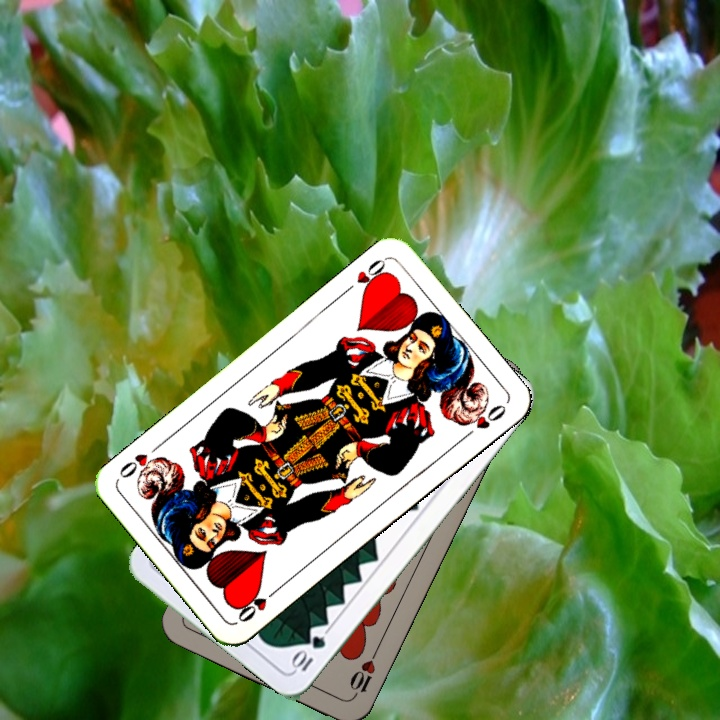G10: (288, 631, 329, 674)
H10: (345, 645, 381, 701)
HO: (339, 254, 392, 297), (234, 583, 283, 625)
